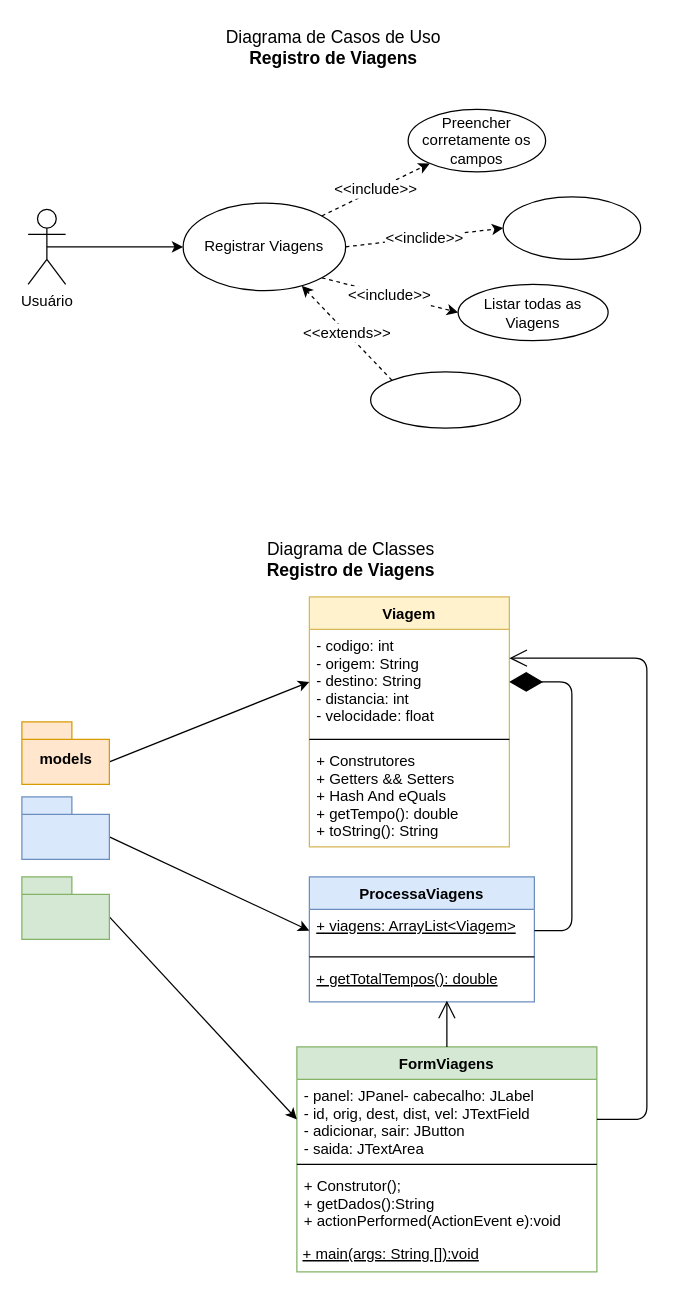
Some shapes in this 686 by 1294 pixel diagram are drawn without their labels. Each missing label, with the centre of its shape:
"Clicar no Botão Adicionar" belongs at pixel 571 227.
"controllers" belongs at pixel 65 827.
"Sair e encerrar Programa" belongs at pixel 445 399.
"viewers" belongs at pixel 65 907.
